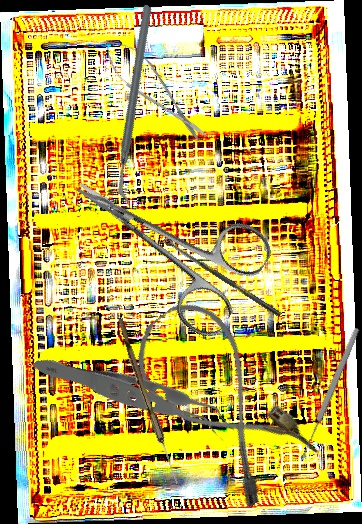Cannula: (116, 288, 324, 513)
Chopper: (49, 3, 224, 205)
Iris Scissors: (47, 133, 279, 344)
Micro Scissor: (95, 30, 216, 152)
Surgical Spoon: (114, 318, 182, 485), (162, 236, 283, 318), (297, 326, 362, 462)
Tissue Forceps: (30, 291, 239, 506)
